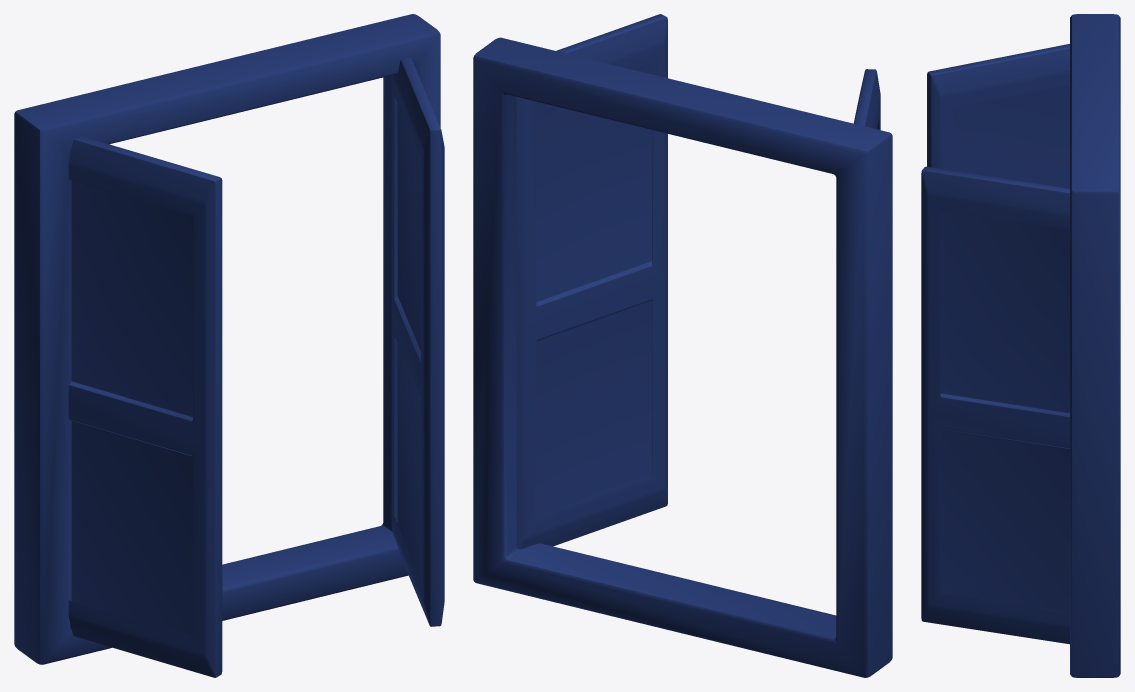
Rendered from window front lp.fbx.
3 renders of one model, left to right at view 1: azimuth 30°, elevation 25°; view 2: azimuth 150°, elevation 25°; view 3: azimuth 270°, elevation 25°, orthographic. The views are drawn at different scales.
Parts seen in each view (by area): view 1: Box014, Box012, Box013; view 2: Box012, Box013, Box014; view 3: Box013, Box012, Box014.
Boxes of the visible parts, x1,y1,x2,y2 form: Box014: [68, 136, 222, 677]; Box012: [14, 14, 440, 664]; Box013: [391, 57, 444, 626]; Box012: [473, 37, 892, 677]; Box013: [516, 14, 667, 549]; Box014: [853, 69, 880, 129]; Box013: [921, 166, 1069, 644]; Box012: [1070, 14, 1120, 677]; Box014: [927, 44, 1069, 188].
Size of the model in its own units: 95.87 by 122 by 45.2.
